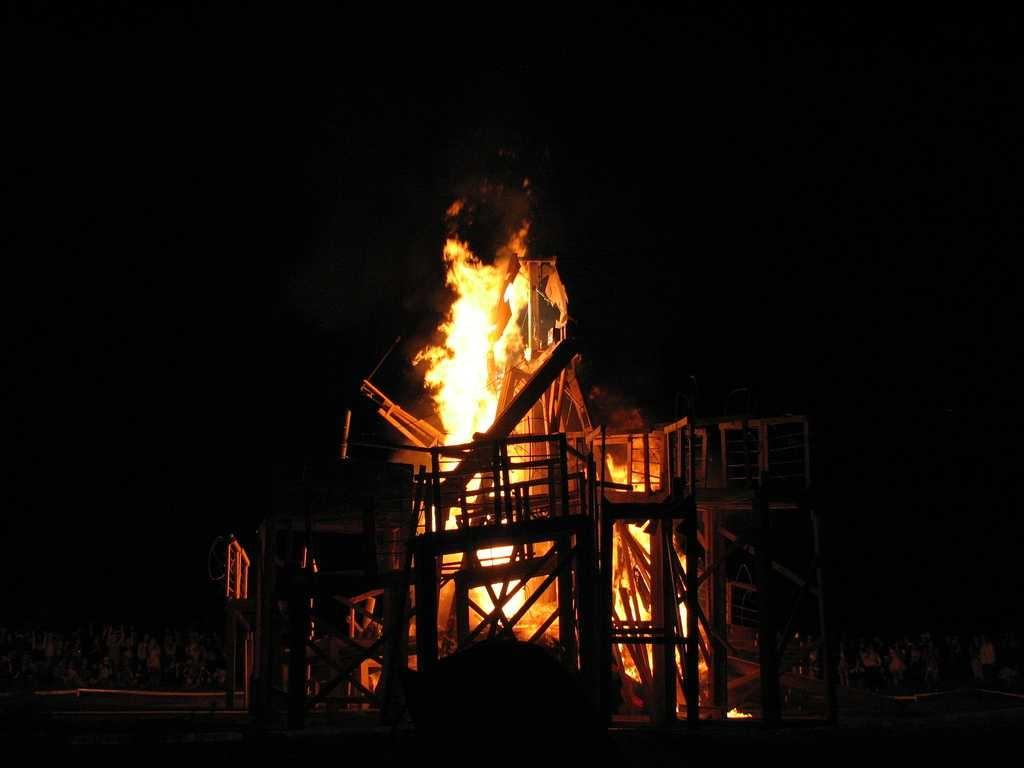fire: (450, 266, 506, 408)
